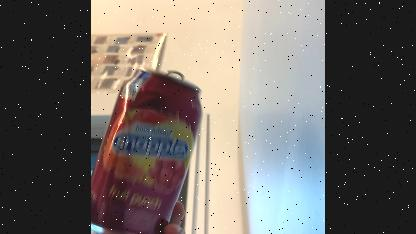Can: (91, 58, 209, 234)
